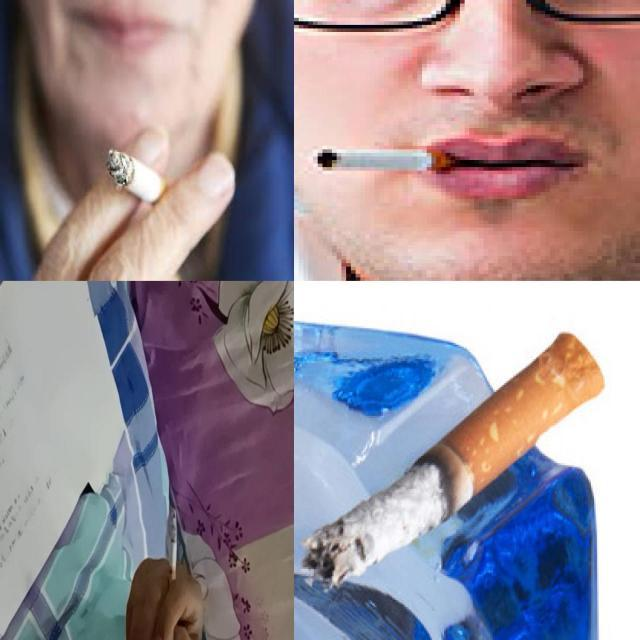smoke: (302, 329, 607, 586), (106, 146, 178, 214), (308, 142, 446, 171), (168, 508, 178, 606)
